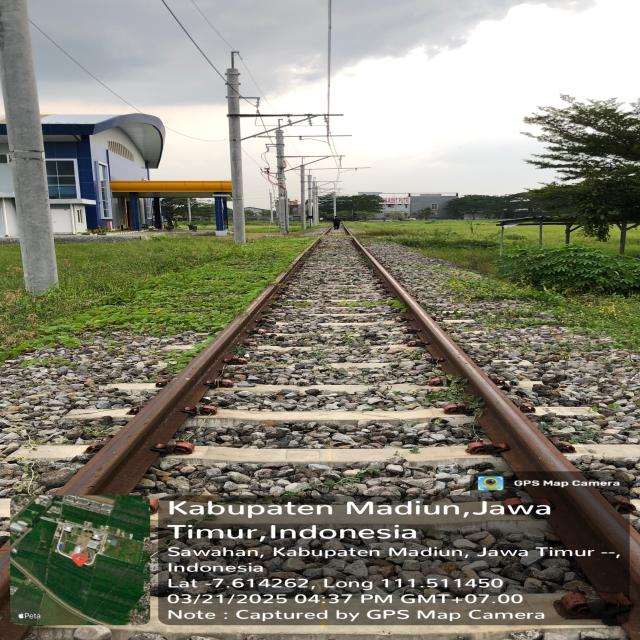rail-detection: (352, 239, 640, 595), (59, 284, 279, 494)
